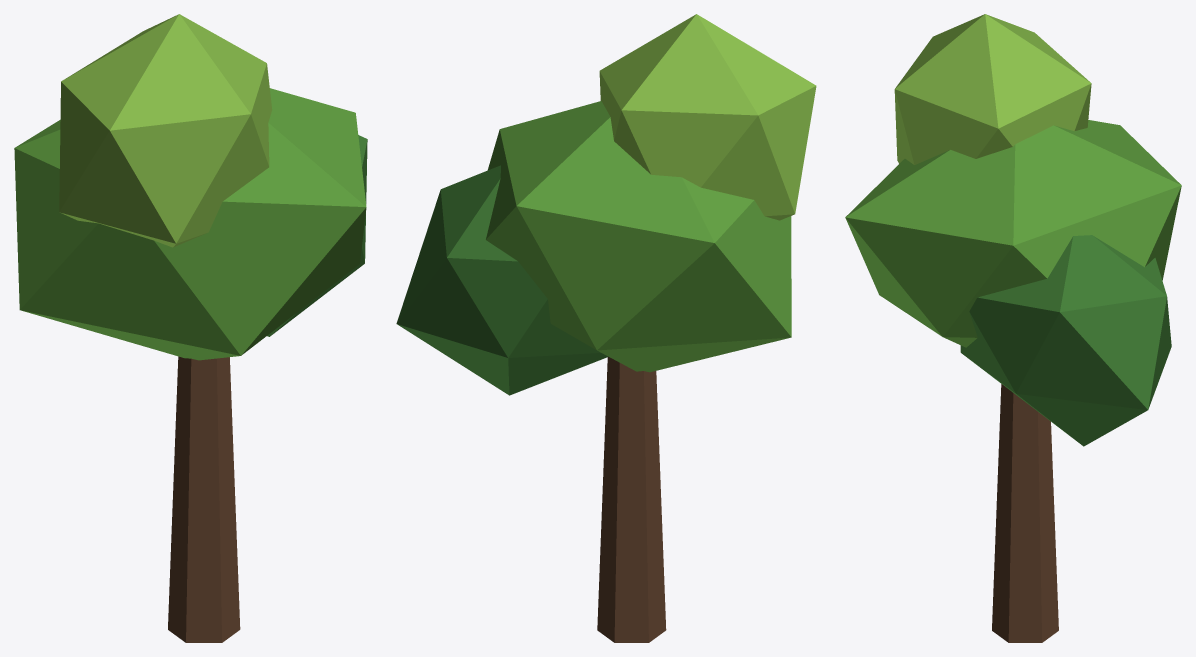
File: tree_deciduous_full.glb
3 renders of one model, left to right at view 1: azimuth 30°, elevation 25°; view 2: azimuth 150°, elevation 25°; view 3: azimuth 270°, elevation 25°, orthographic. The views are drawn at different scales.
Parts seen in each view (by area): view 1: tree_deciduous_full.001; view 2: tree_deciduous_full.001; view 3: tree_deciduous_full.001.
Part boxes in pixels (x1,y1,x2,y2): tree_deciduous_full.001: (14, 14, 367, 642); tree_deciduous_full.001: (396, 14, 816, 642); tree_deciduous_full.001: (845, 14, 1181, 642).
Bounding box in the file's own units: 2.97 × 5.09 × 2.61.
Materials: 1 (1 with a texture image).
